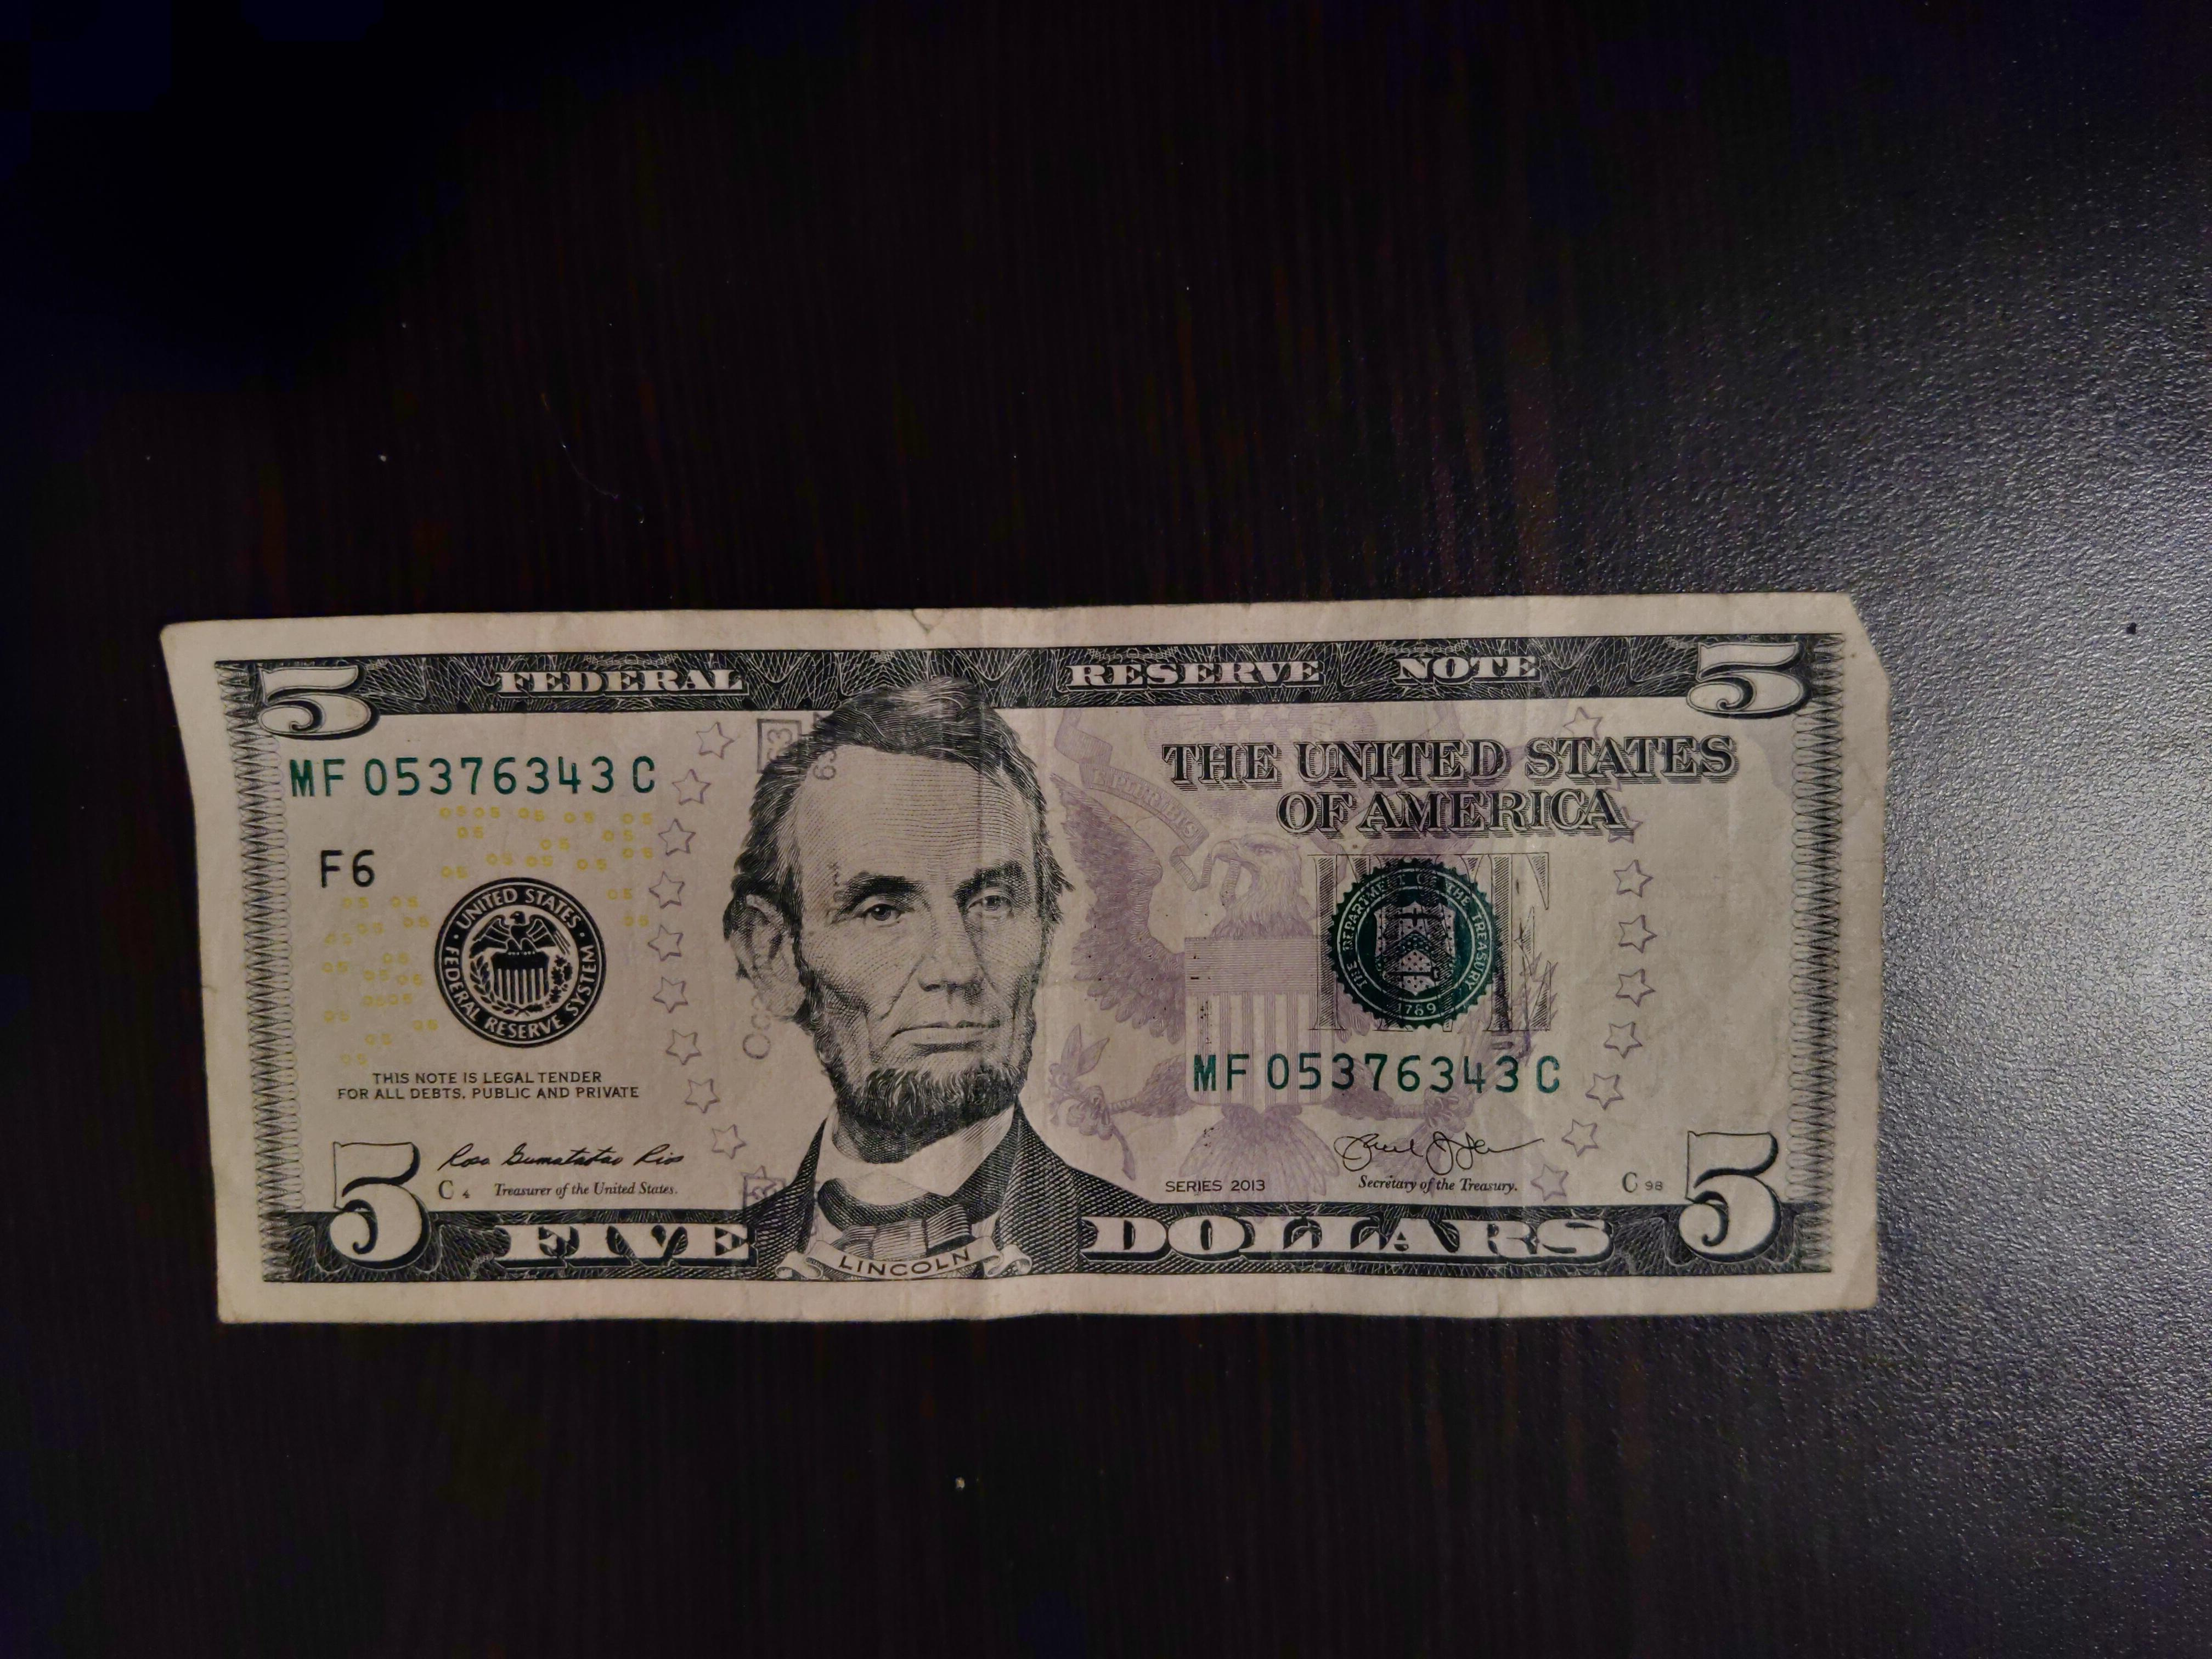FiveBill: (155, 586, 1895, 1333)
